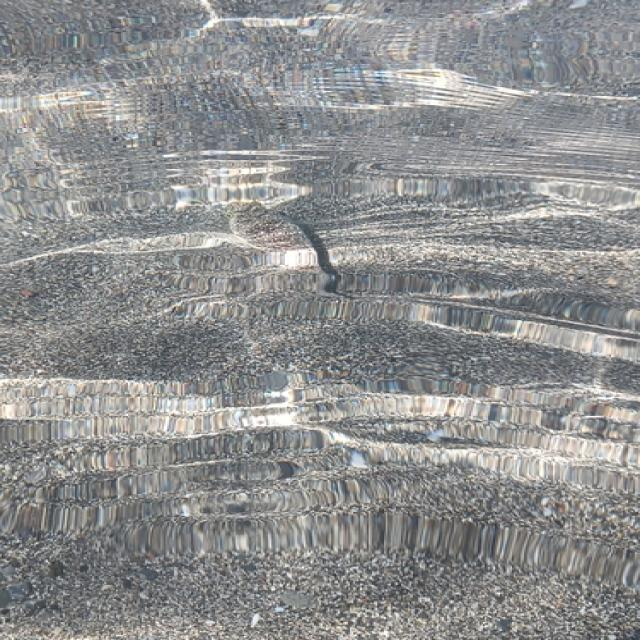Balik: (230, 202, 316, 262)
